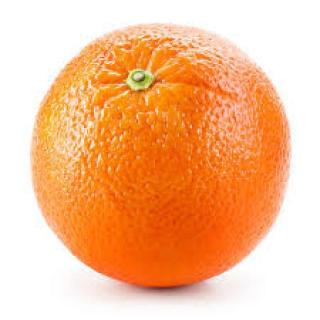orange: (28, 9, 304, 295)
